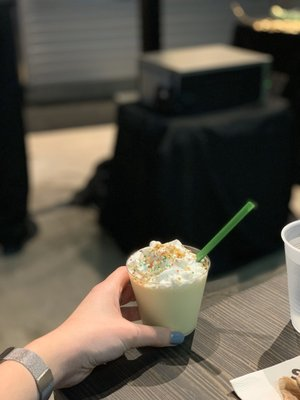pizza: (125, 240, 211, 338), (281, 219, 300, 335)
salad: (195, 200, 257, 262)
